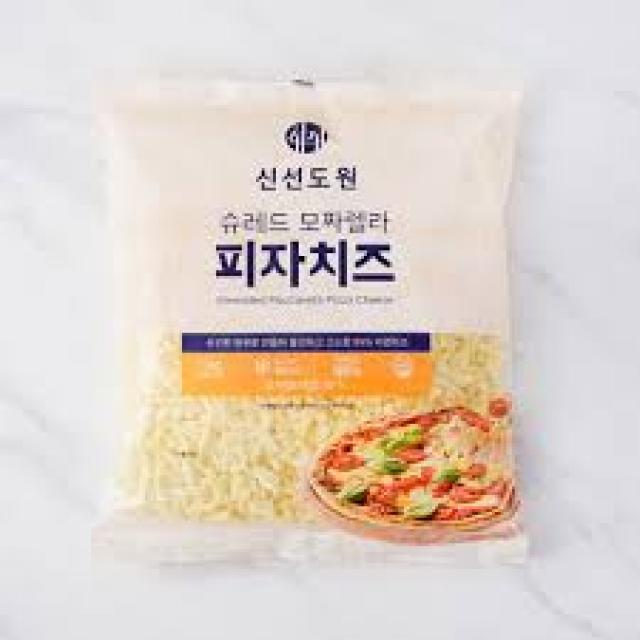cheese: (118, 66, 524, 564)
